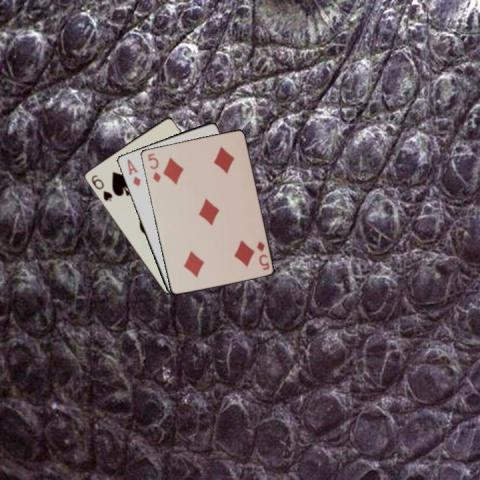5d: (253, 238, 271, 271), (145, 150, 162, 184)
6s: (88, 172, 114, 203)
Ad: (124, 156, 142, 188)
